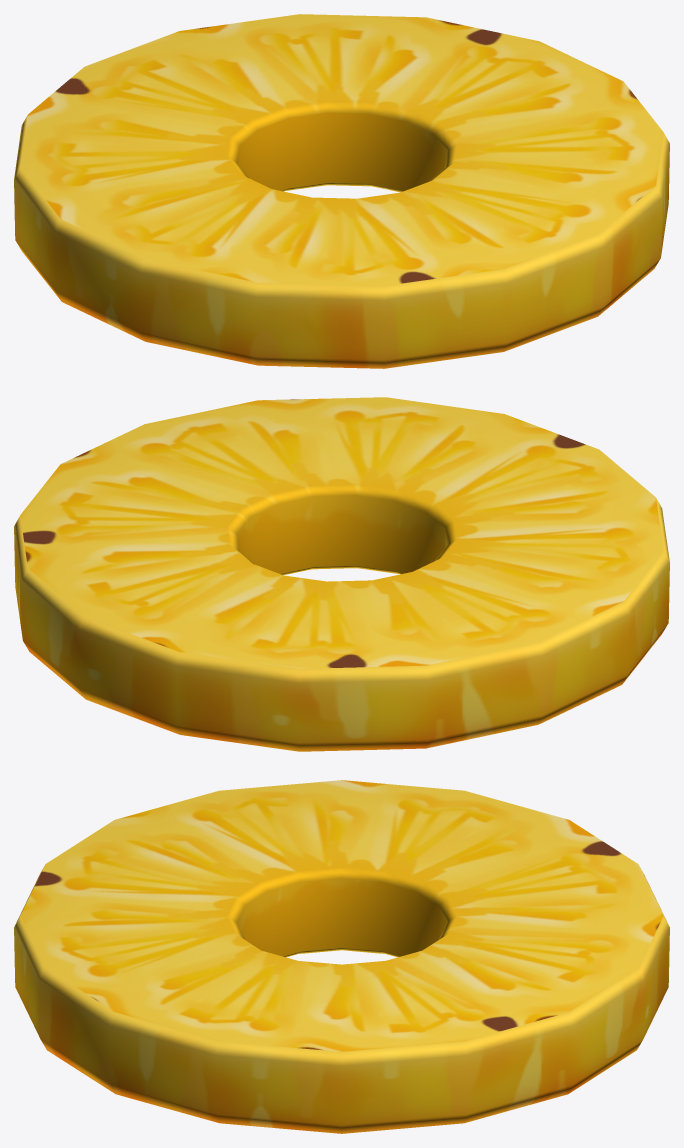
File: Pineapple_Ripe_Ring.fbx
The picture shows the model from 3 angles, top to bottom: view 1: azimuth 30°, elevation 25°; view 2: azimuth 150°, elevation 25°; view 3: azimuth 270°, elevation 25°; orthographic projection.
Visible parts, largest first — view 1: Pineapple_Ripe_Ring; view 2: Pineapple_Ripe_Ring; view 3: Pineapple_Ripe_Ring.
Part boxes in pixels (x1,y1,x2,y2): Pineapple_Ripe_Ring: (14, 14, 669, 368); Pineapple_Ripe_Ring: (14, 397, 669, 751); Pineapple_Ripe_Ring: (14, 780, 669, 1133).
Bounding box in the file's own units: 54.03 × 7.51 × 54.03.
